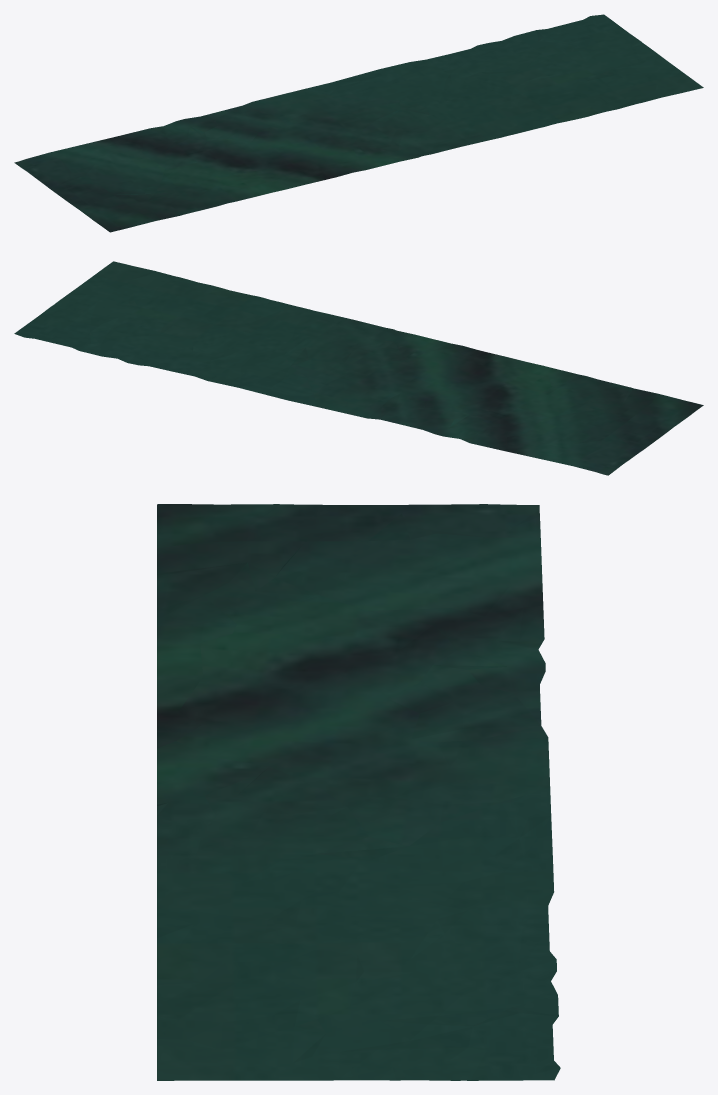
3 renders of one model, top to bottom at view 1: azimuth 30°, elevation 25°; view 2: azimuth 150°, elevation 25°; view 3: azimuth 270°, elevation 25°, orthographic. The views are drawn at different scales.
Size of the model in its own units: 209 by 0.7852 by 61.84.
Materials: 1 (1 with a texture image).
